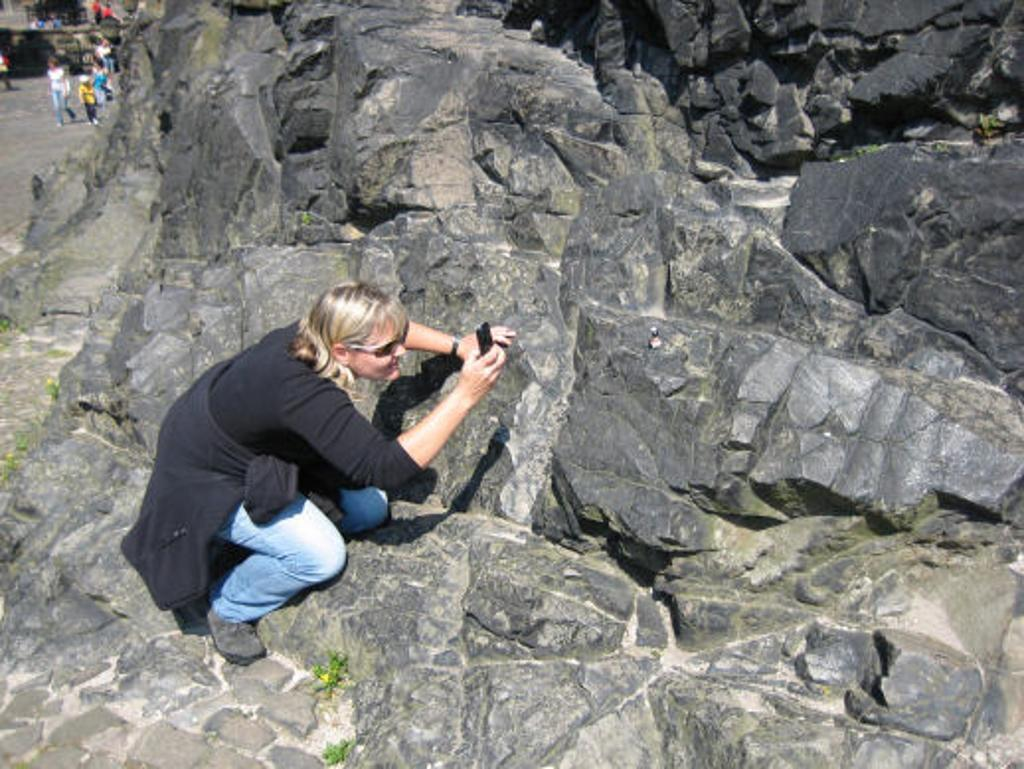face: (354, 306, 412, 380)
